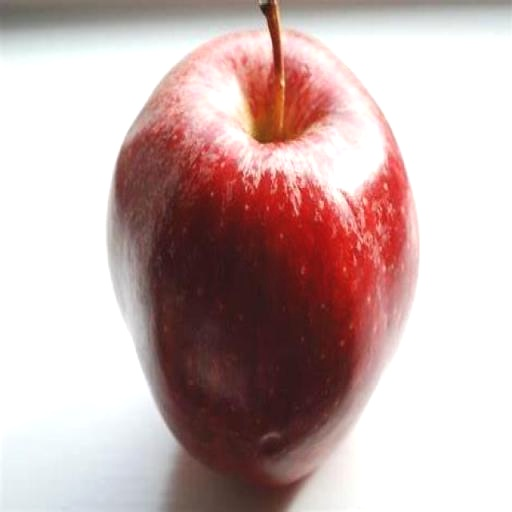fruit: (108, 32, 417, 484)
